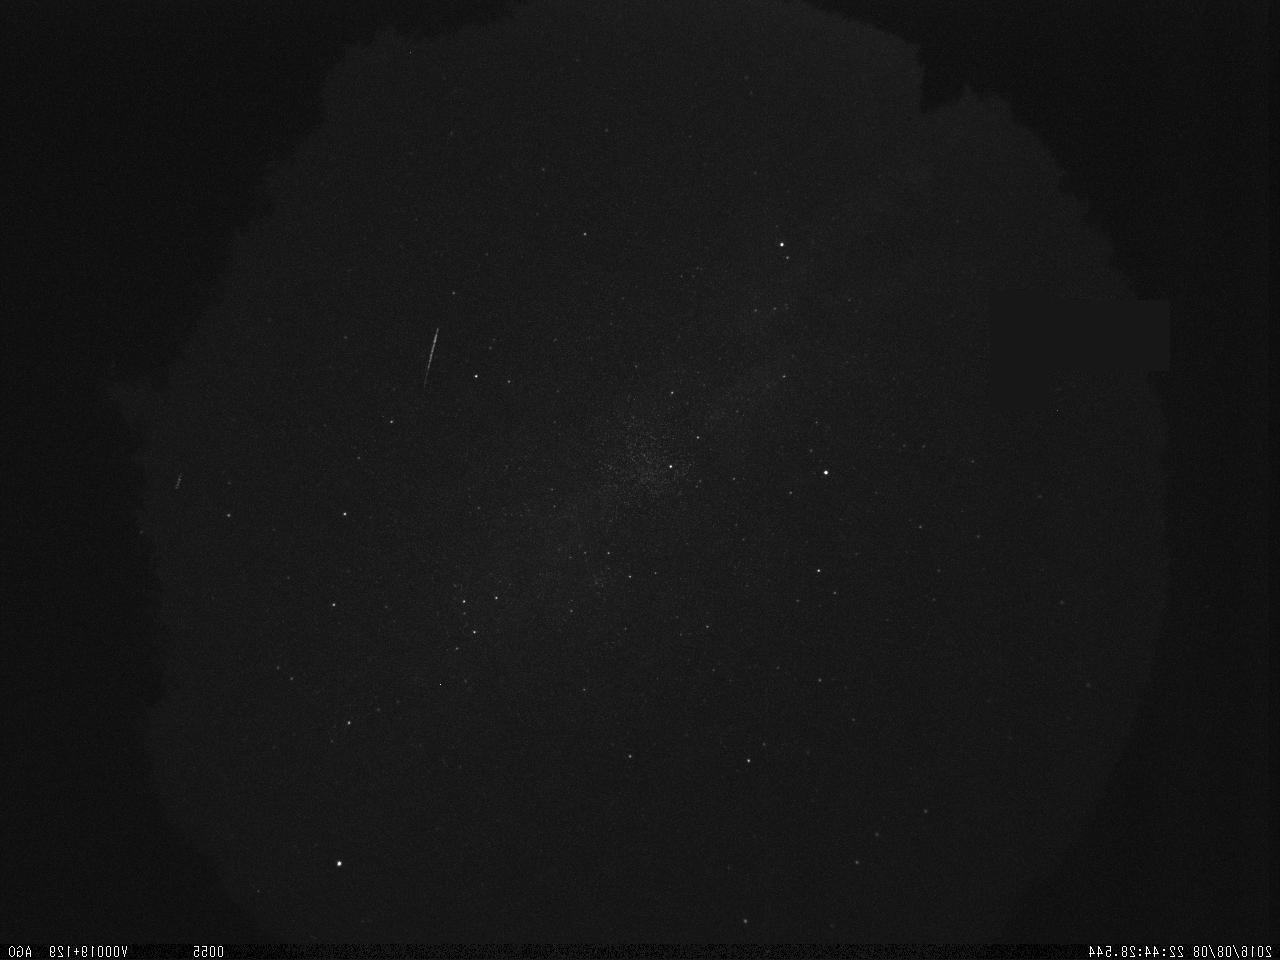meteor: (380, 311, 463, 400)
